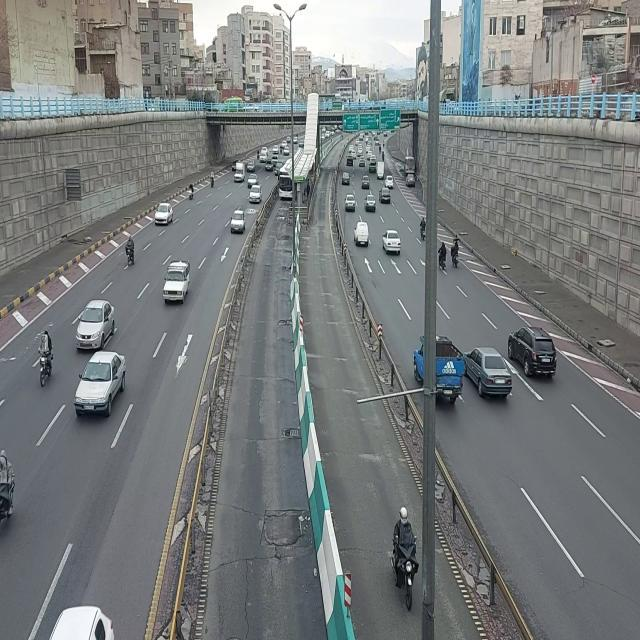Bus: (278, 166, 296, 204)
Car: (73, 347, 129, 418), (506, 322, 560, 387), (464, 341, 515, 403), (70, 292, 121, 352), (381, 225, 403, 261), (154, 199, 174, 227), (230, 207, 248, 235), (248, 184, 264, 206), (365, 191, 379, 216), (344, 191, 358, 213)
Motorcycle: (390, 501, 421, 612), (35, 325, 55, 396), (450, 231, 464, 271), (123, 234, 139, 268), (437, 239, 449, 278), (418, 213, 429, 245), (208, 170, 216, 189)
Pickup: (161, 255, 195, 310), (352, 221, 372, 251), (234, 162, 244, 187), (376, 159, 386, 183)
